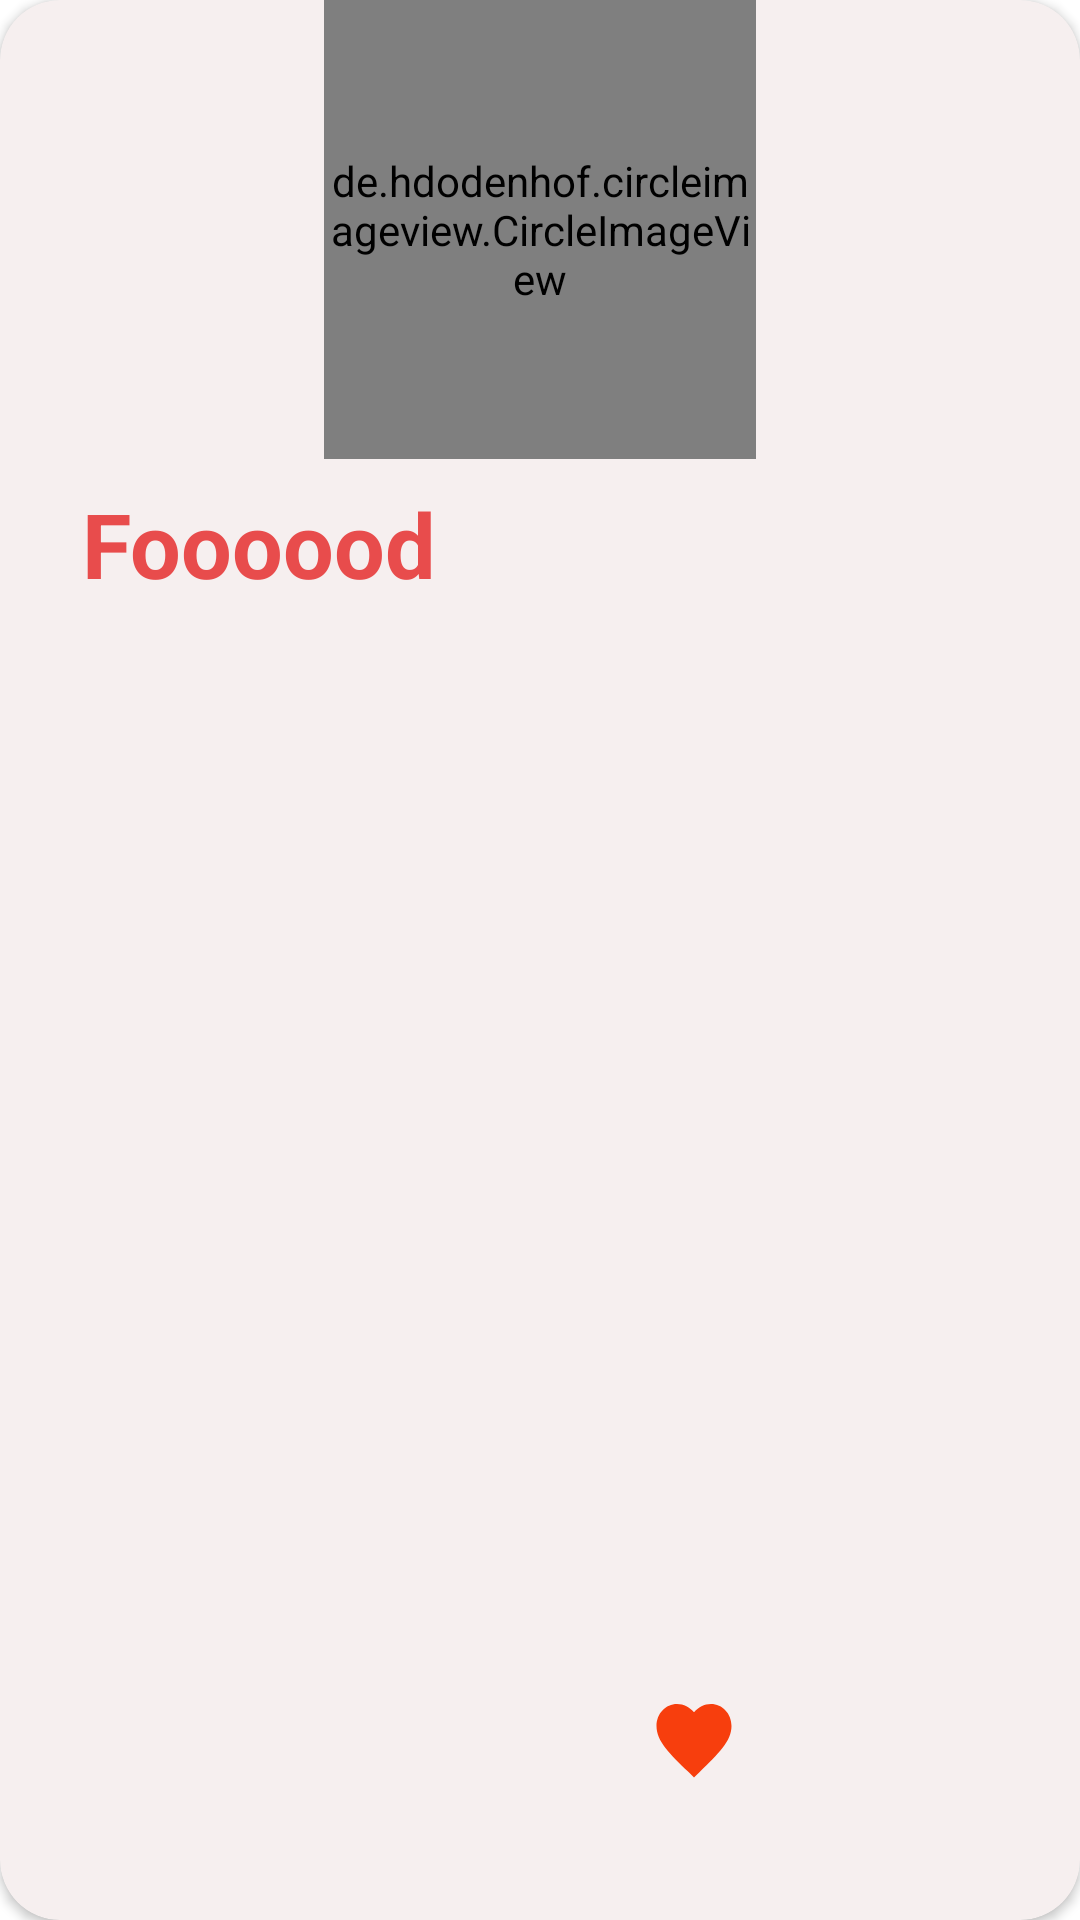

Point at icon controls on the screen. Image size 1080px x 1920px, points as point (x, y).
favoritesolid: point (694, 1741)
